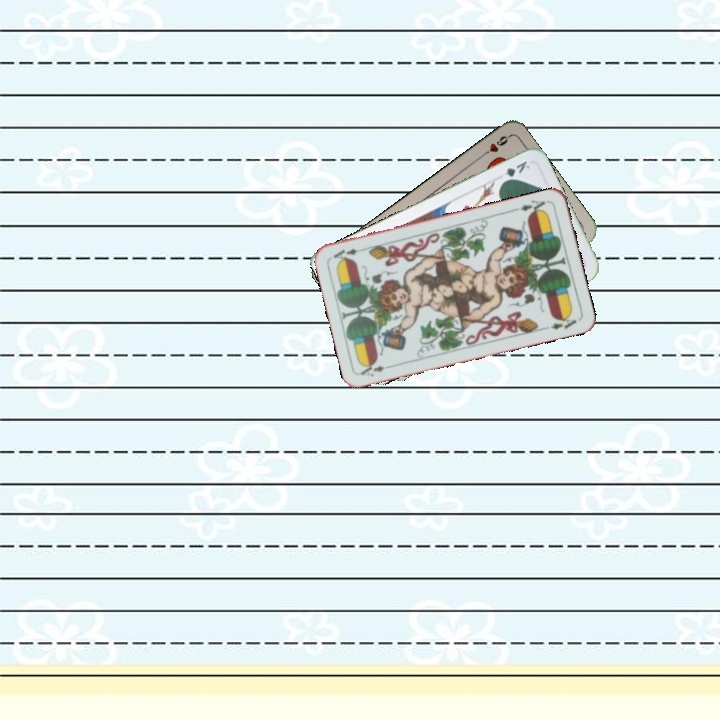EA: (510, 196, 551, 217), (356, 359, 397, 379)
GK: (497, 157, 532, 186)
H9: (477, 131, 512, 160)
